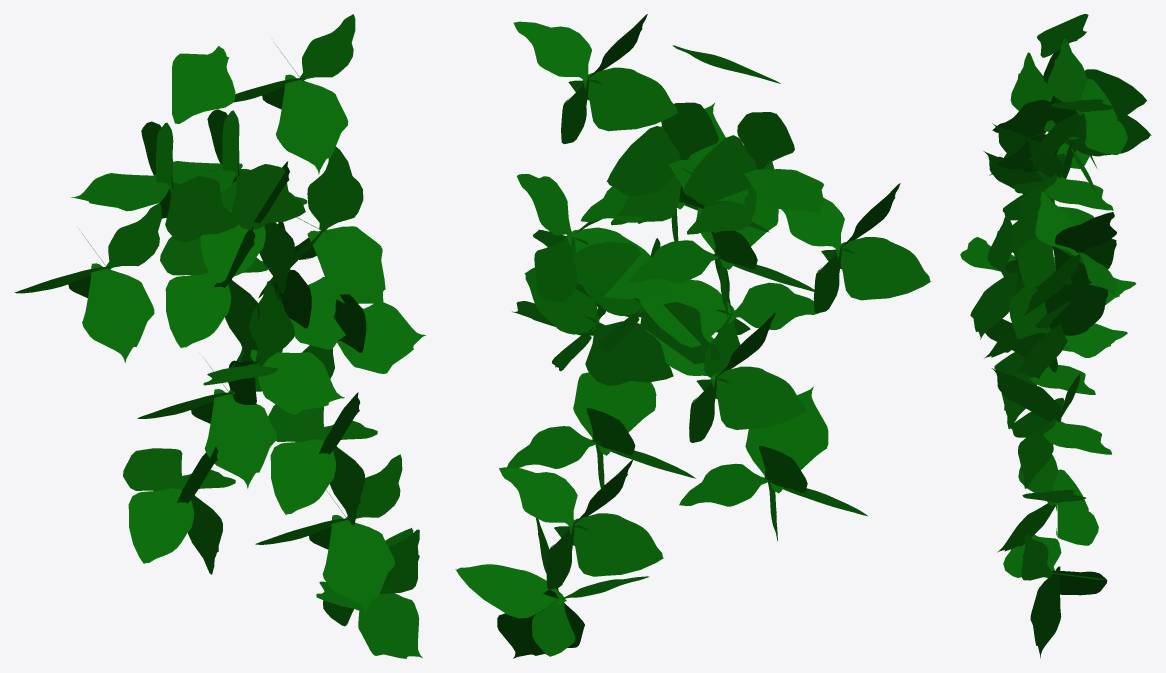
Rendered from Vegetation_Modular_New_Plant_Creeper_Ivy_02.FBX.
The picture shows the model from 3 angles, left to right: view 1: azimuth 30°, elevation 25°; view 2: azimuth 150°, elevation 25°; view 3: azimuth 270°, elevation 25°; orthographic projection. The views are drawn at different scales.
Visible parts, largest first — view 1: Vegetation_Modular_New_Plant_Creeper_Ivy_02; view 2: Vegetation_Modular_New_Plant_Creeper_Ivy_02; view 3: Vegetation_Modular_New_Plant_Creeper_Ivy_02.
Boxes of the visible parts, box(x1,y1,x2,y2) form: Vegetation_Modular_New_Plant_Creeper_Ivy_02: box(15, 14, 425, 658); Vegetation_Modular_New_Plant_Creeper_Ivy_02: box(455, 14, 930, 658); Vegetation_Modular_New_Plant_Creeper_Ivy_02: box(960, 14, 1151, 658).
Bounding box in the file's own units: 1625 × 2381 × 737.
